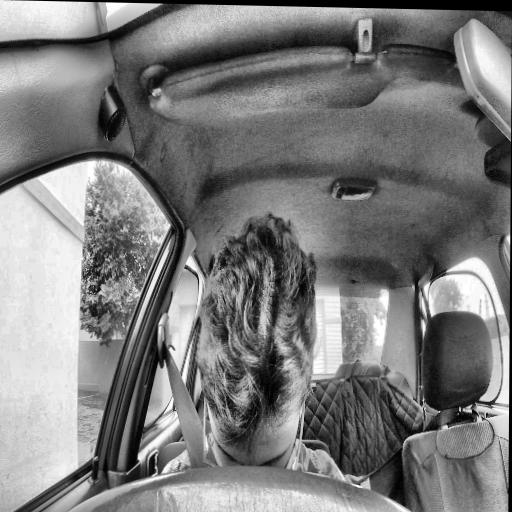drowsy: (196, 208, 317, 484)
